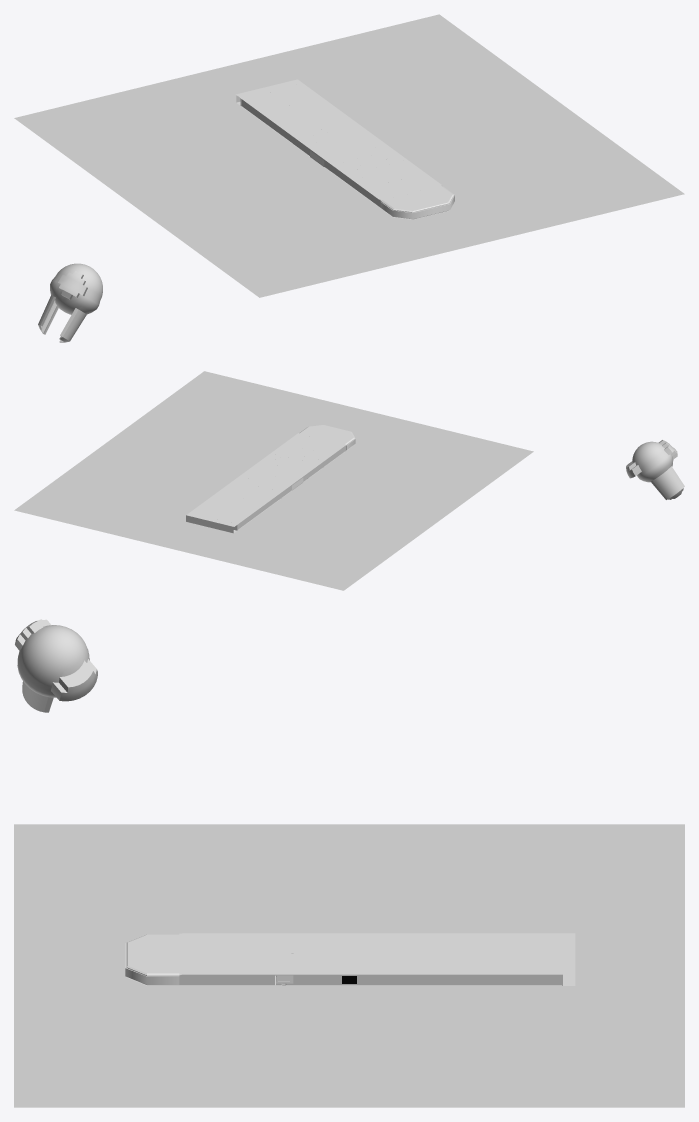
Rendered from level-1.glb.
3 views of the same model, one above another, from view 1: azimuth 30°, elevation 25°; view 2: azimuth 150°, elevation 25°; view 3: azimuth 270°, elevation 25° (orthographic). The views are drawn at different scales.
Parts seen in each view (by area): view 1: Plane, Cube.006, Sphere, Cube.002, Cube.005; view 2: Plane, Cube.006, Sphere, Cube.002; view 3: Plane, Cube.006, Sphere, Cube.002.
Part boxes in pixels (x1,y1,x2,y2): Plane: [14, 14, 684, 297]; Cube.006: [236, 79, 452, 210]; Sphere: [38, 263, 102, 342]; Cube.002: [236, 94, 454, 219]; Cube.005: [380, 195, 454, 218]; Plane: [14, 371, 533, 590]; Cube.006: [186, 425, 353, 526]; Sphere: [626, 440, 684, 499]; Cube.002: [186, 426, 355, 533]; Plane: [14, 824, 684, 1107]; Cube.006: [127, 933, 575, 974]; Sphere: [15, 619, 97, 712]; Cube.002: [125, 933, 574, 985].
Bounding box in the file's own units: 224 × 27.56 × 151.
5 materials, 1 textured.
